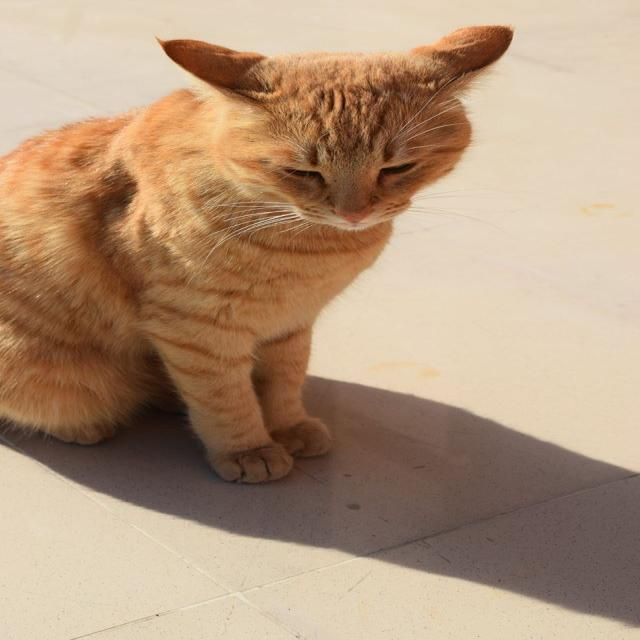sarman: (0, 25, 512, 482)
